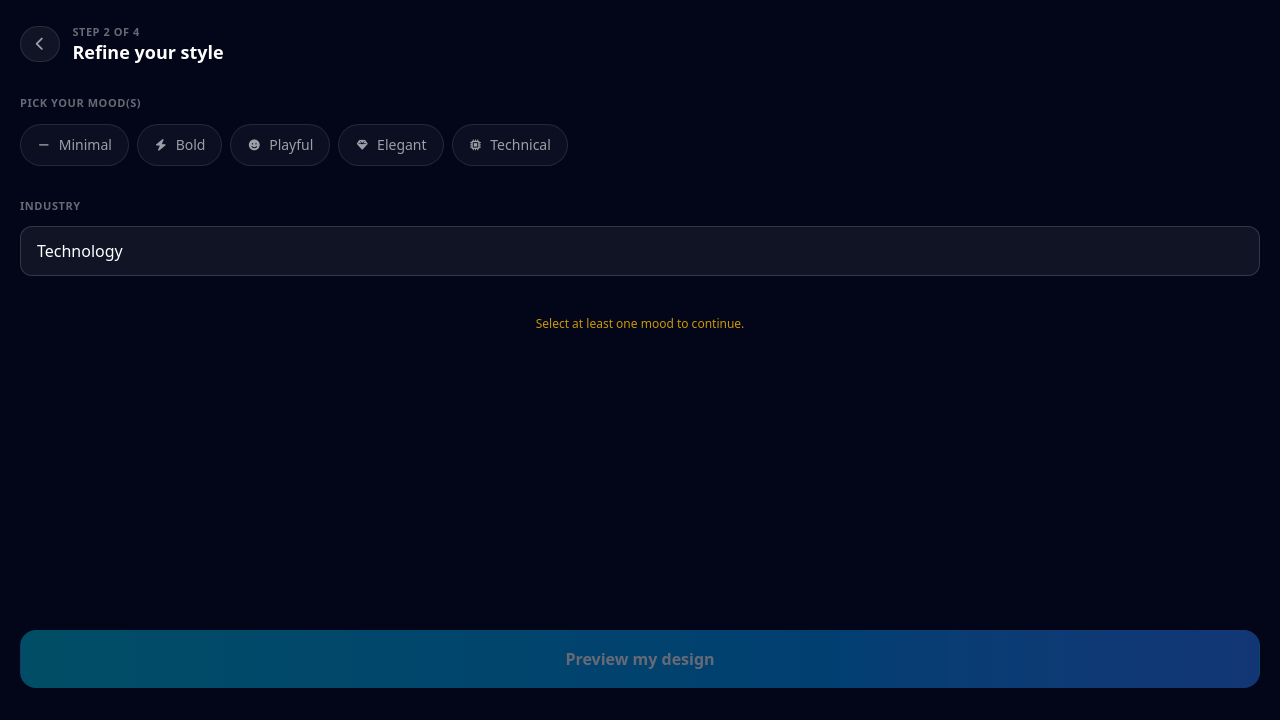
Test: MobileRefineStep › hides the hint once a mood is selected (#222)
Check: the text "Select at least one mood to continue." is shown, box [536, 315, 744, 332]
Step 1. Click the checkbox labelled "Minimal" → coordinates (74, 144), box [20, 124, 129, 166]
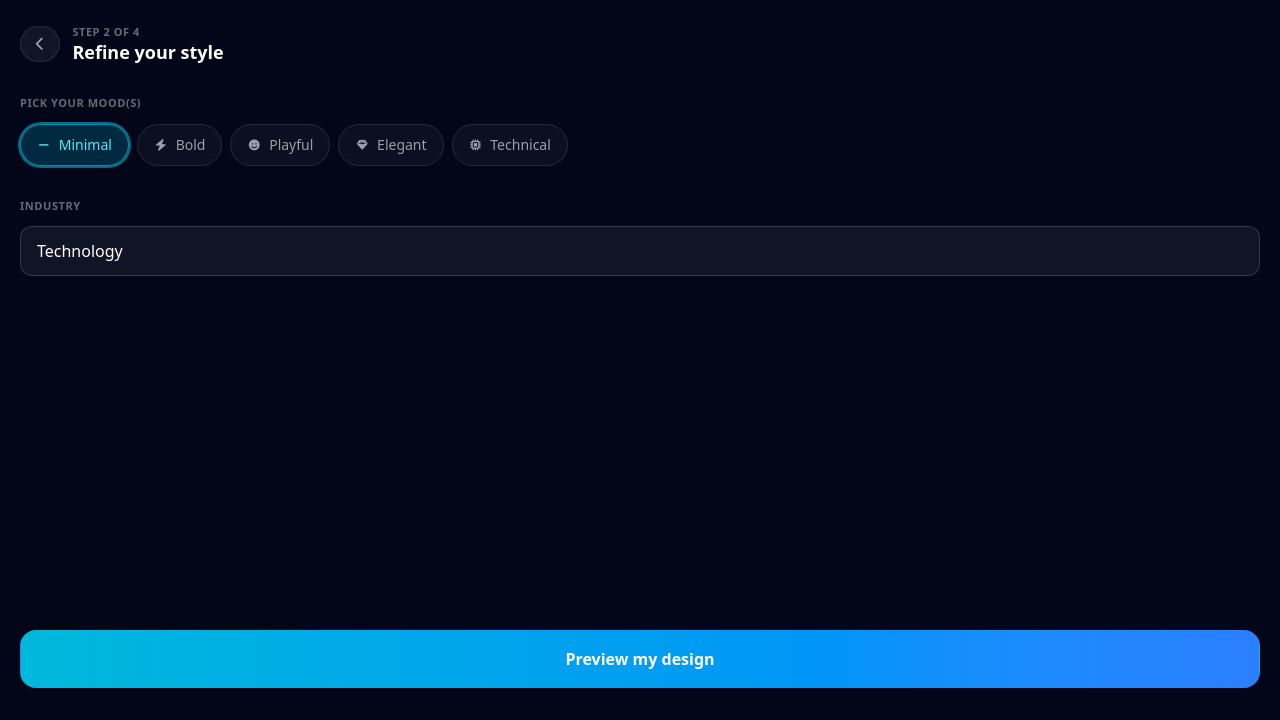
Check: the text "Select at least one mood" is gone
